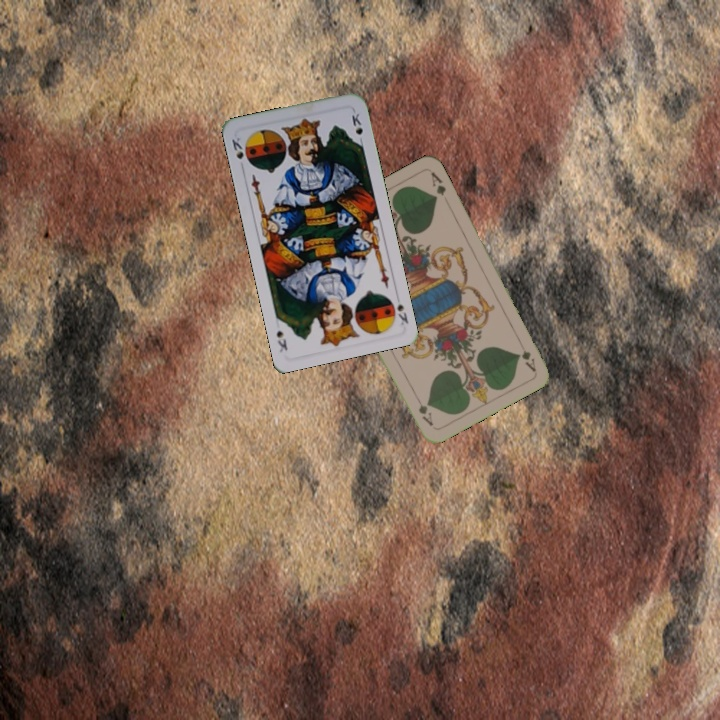GA: (518, 346, 538, 374)
SK: (228, 133, 252, 166), (393, 298, 411, 327)
